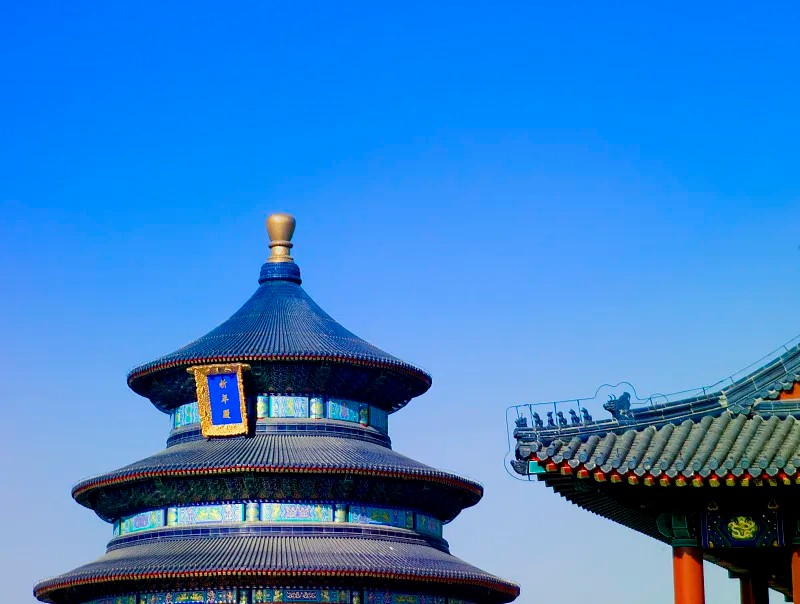Heaven: (34, 212, 519, 604)
